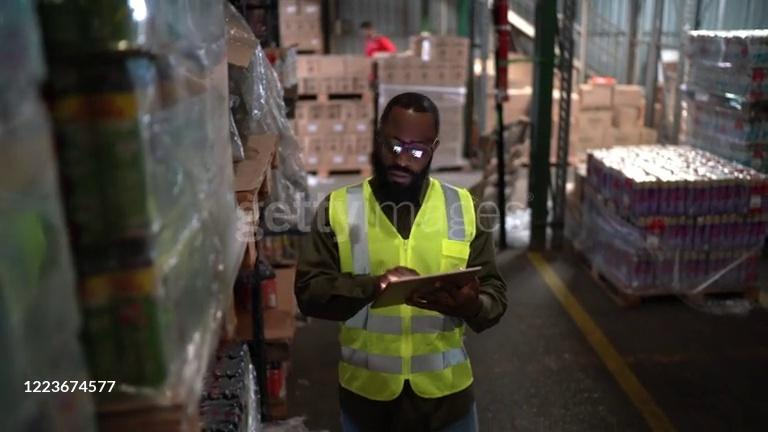person: (294, 91, 508, 432), (359, 21, 398, 84)
